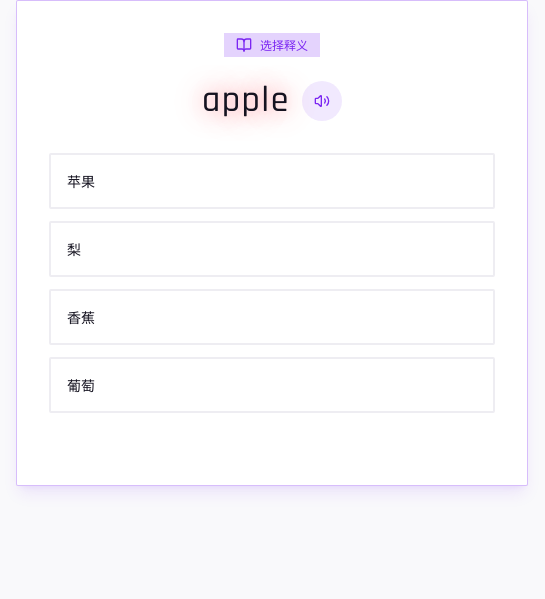
Test: 服务器判定答题 › 丢失提交响应后换选项也只重发原答案
This screenshot has width=545, height=599.
Later steps or results of the test are not shown.
Click the button "苹果": (81, 181) top-left (49, 153), bottom-right (495, 209)
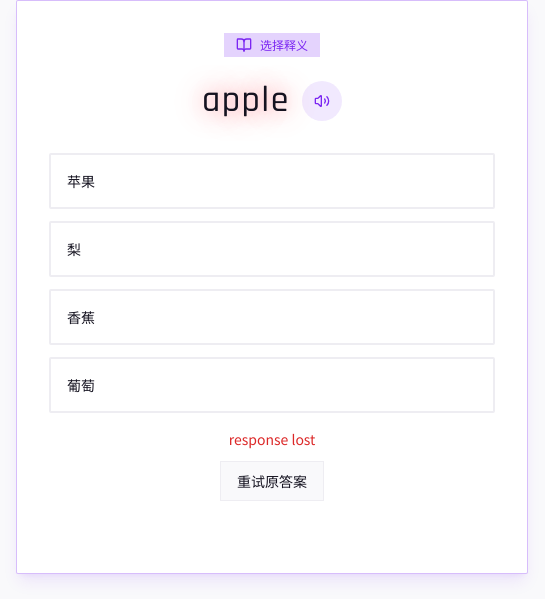
Expected: the button "梨" is disabled, top-left (49, 221), bottom-right (495, 277)
Now the button "重试原答案" is enabled, box top-left (220, 461), bottom-right (324, 501)
